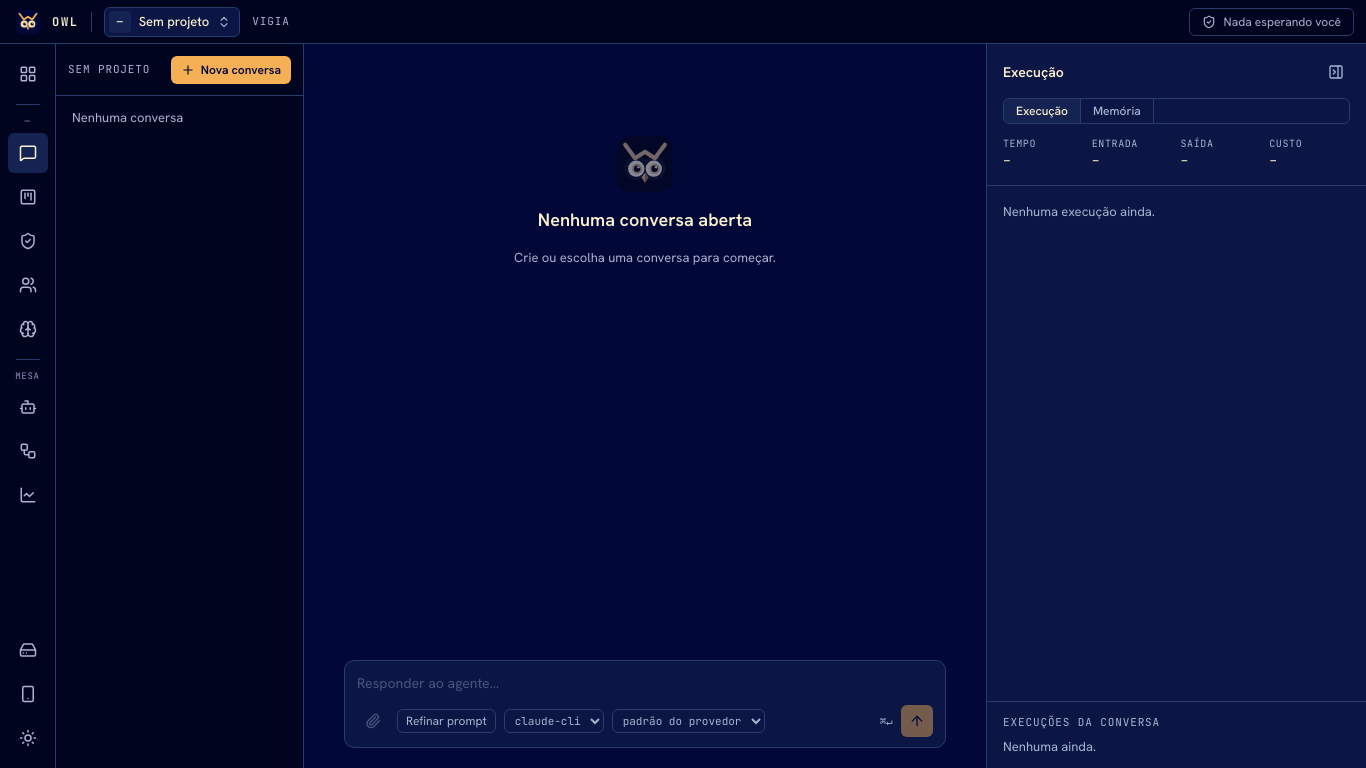
Scenario: agent library › shows a broken file with the reason, next to the working agents
Click the button named "Agentes" at [28, 407], box top-left (8, 387), bottom-right (48, 427)
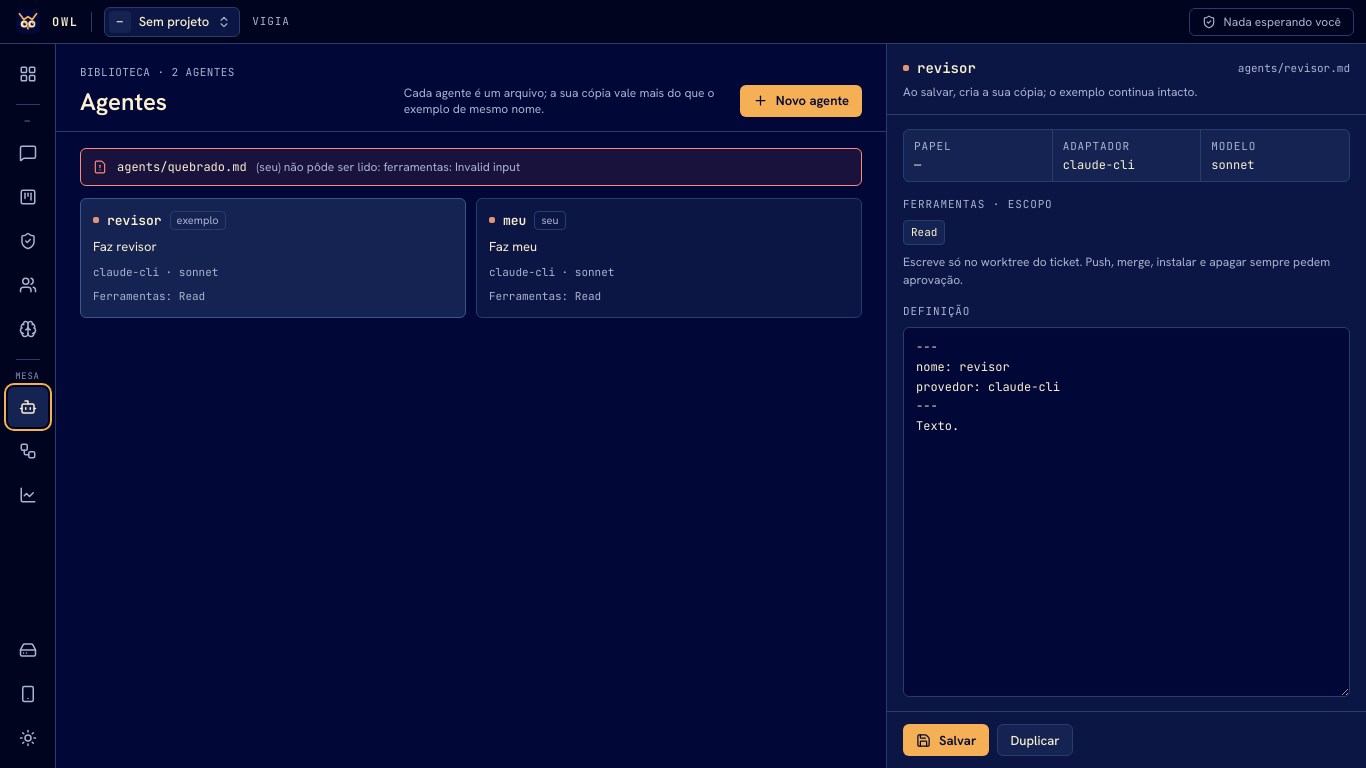
Now the element named "Biblioteca de agentes" is shown
Now the message shows "agents/quebrado.md", box top-left (117, 158), bottom-right (247, 174)
Now the message shows "ferramentas: Invalid input", box top-left (383, 158), bottom-right (520, 174)
